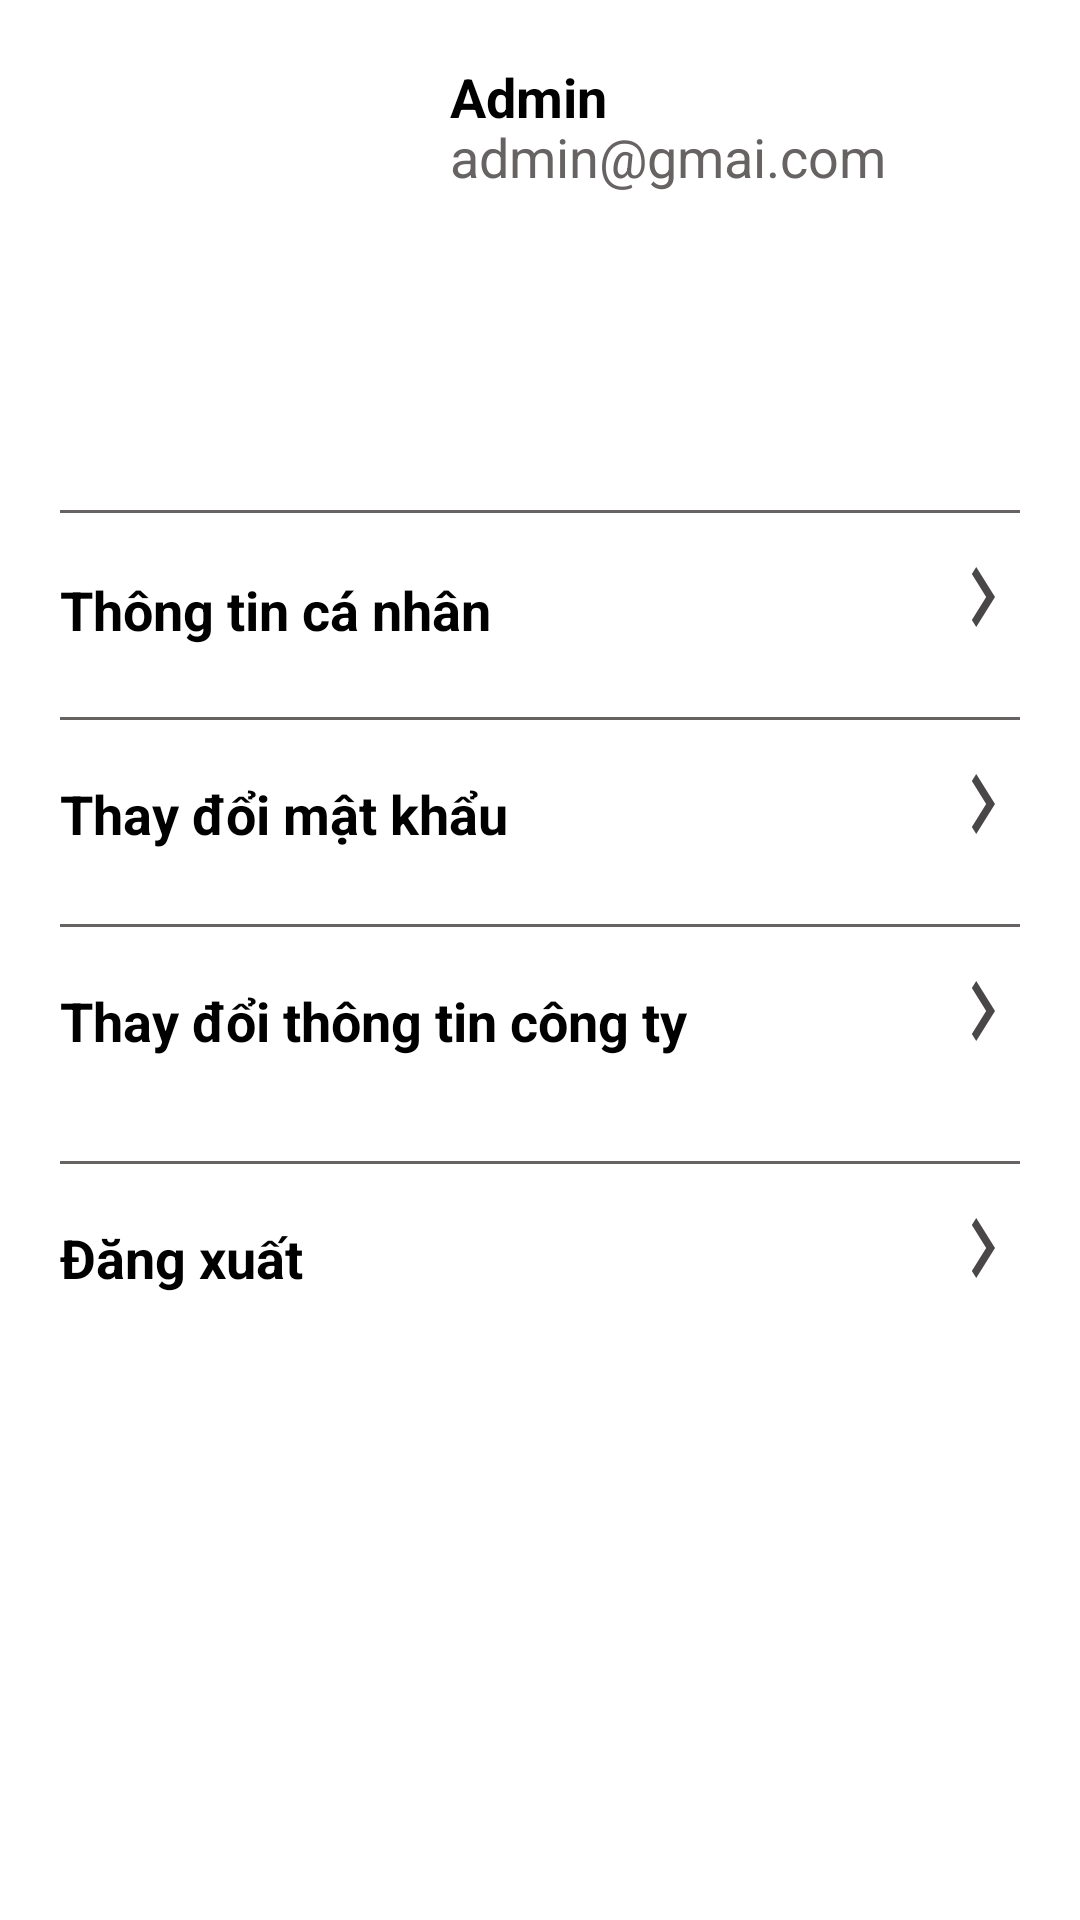

Icon bounding boxes for this 1080px x 1920px phone screenshot, format [x1=x1, y1=y1, x2=x2, y2=y2]:
navigate next: [x1=972, y1=567, x2=995, y2=627], [x1=972, y1=774, x2=995, y2=834], [x1=972, y1=981, x2=995, y2=1041], [x1=972, y1=1218, x2=995, y2=1278]
